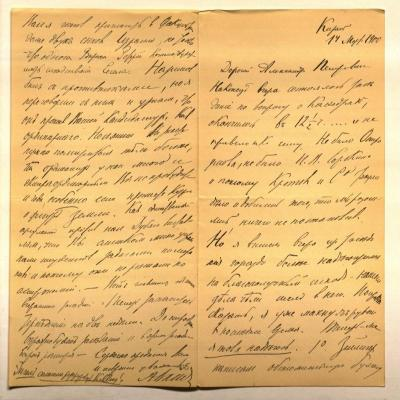document: (7, 6, 386, 389)
